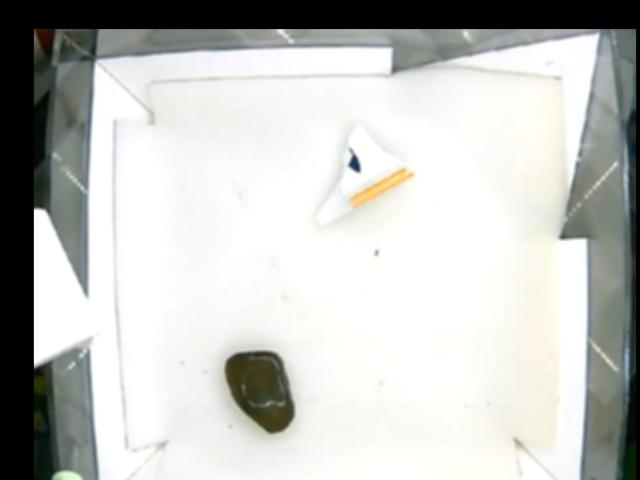China: (306, 124, 415, 224)
Pebble: (220, 348, 295, 436)
